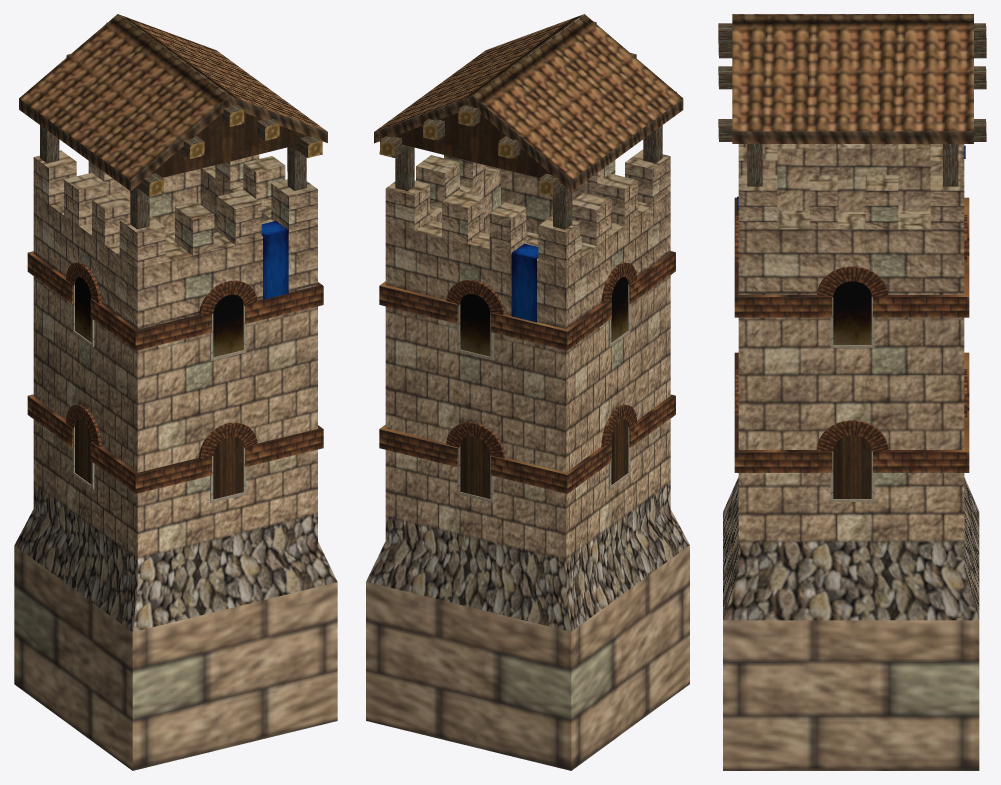
Rendered from wall_tower.dae.
The picture shows the model from 3 angles, left to right: view 1: azimuth 30°, elevation 25°; view 2: azimuth 150°, elevation 25°; view 3: azimuth 270°, elevation 25°; orthographic projection. The views are drawn at different scales.
Visible parts, largest first — view 1: wall_tower; view 2: wall_tower; view 3: wall_tower.
Boxes of the visible parts, x1=… form: wall_tower: x1=14, y1=14, x2=337, y2=770; wall_tower: x1=366, y1=14, x2=689, y2=770; wall_tower: x1=718, y1=14, x2=986, y2=770.
Size of the model in its own units: 10.1 by 10.55 by 30.49.
